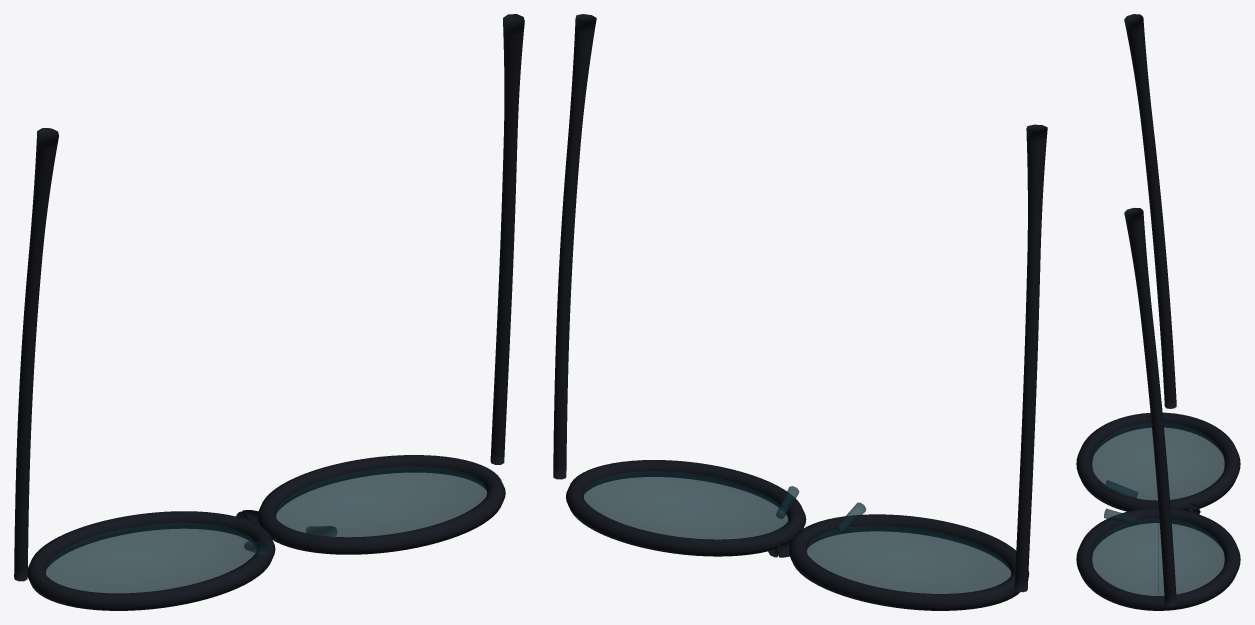
The model's file is ar_glasses_classic_lod0.glb.
3 views of the same model, side by side, from view 1: azimuth 30°, elevation 25°; view 2: azimuth 150°, elevation 25°; view 3: azimuth 270°, elevation 25° (orthographic). The views are drawn at different scales.
Visible parts, largest first — view 1: SM_AR_Glasses_Classic_LOD0; view 2: SM_AR_Glasses_Classic_LOD0; view 3: SM_AR_Glasses_Classic_LOD0.
Boxes of the visible parts, left/top/right/bottom form: SM_AR_Glasses_Classic_LOD0: left=14, top=14, right=524, bottom=610; SM_AR_Glasses_Classic_LOD0: left=553, top=14, right=1047, bottom=610; SM_AR_Glasses_Classic_LOD0: left=1076, top=14, right=1240, bottom=610.
Bounding box in the file's own units: 0.1368 × 0.1266 × 0.0465.
